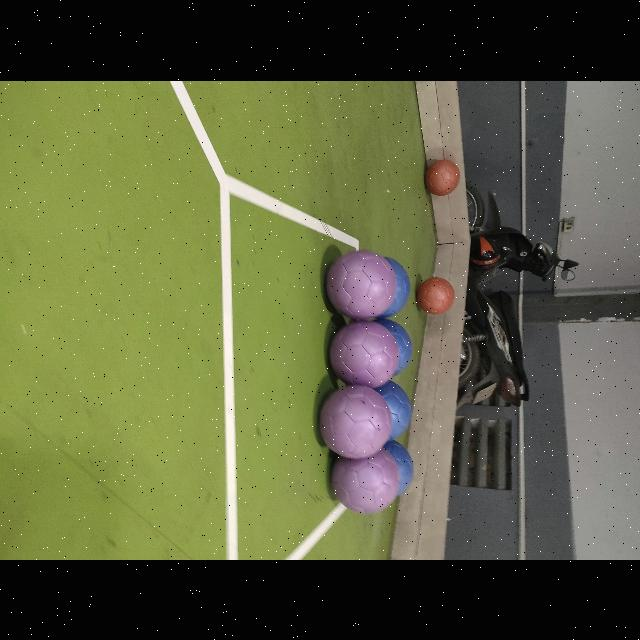B: (374, 381, 412, 439), (376, 318, 412, 374), (380, 257, 410, 317), (383, 440, 413, 496)
P: (320, 386, 392, 458), (328, 250, 397, 320), (330, 320, 400, 388), (330, 448, 404, 512)
R: (418, 278, 454, 314), (426, 159, 460, 195)
